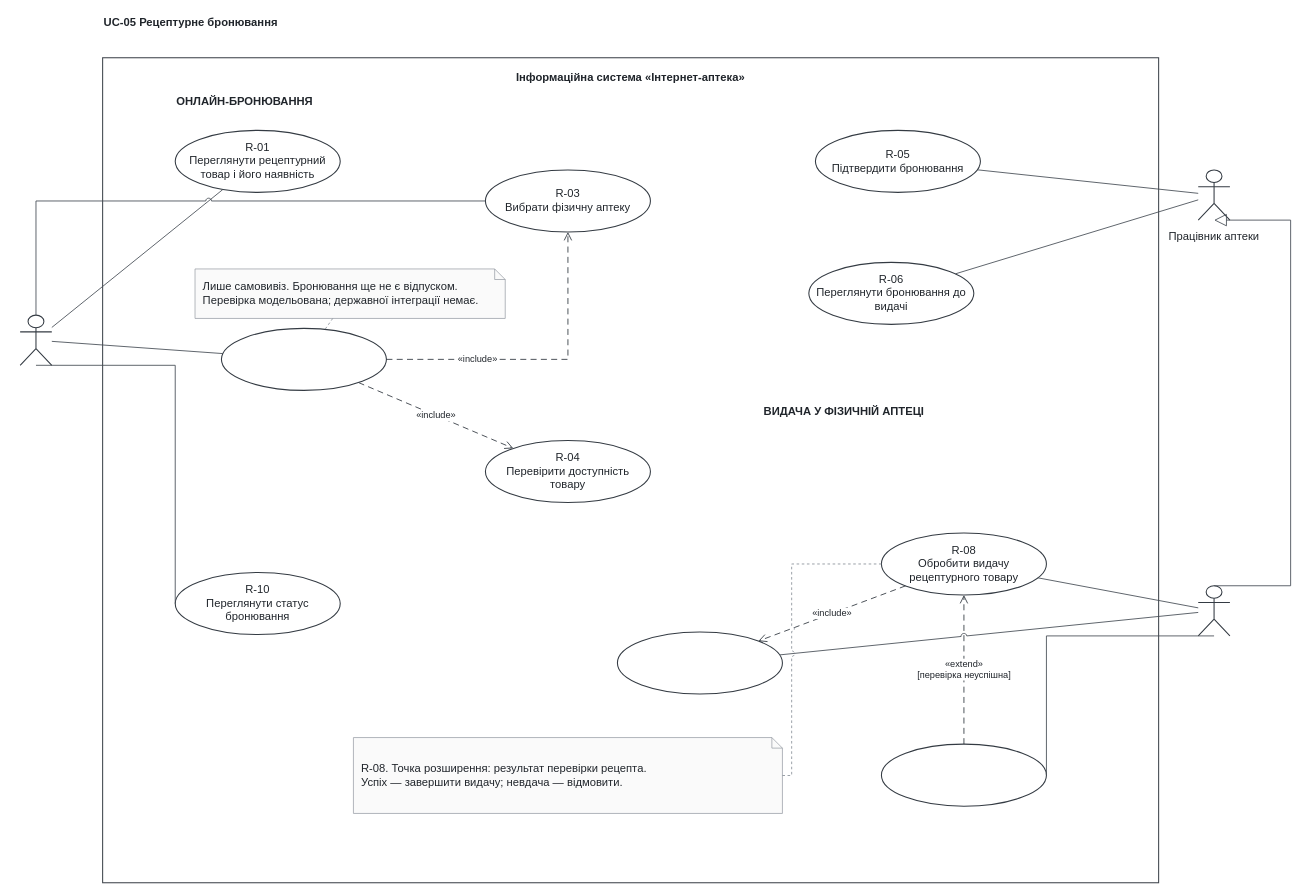
Some shapes in this 1315 by 894 pixel diagram are drawn without their labels. The shapes that lost their labels are listed below. From the top down, each one's centre as x and y in pixels, then its label:
At (35,340): "Покупець".
At (304,359): "R-02 Забронювати рецептурний препарат".
At (1213,610): "Уповноважений фармацевтичний працівник".
At (700,662): "R-07 Перевірити рецепт".
At (964,774): "R-09 Відмовити у видачі".
